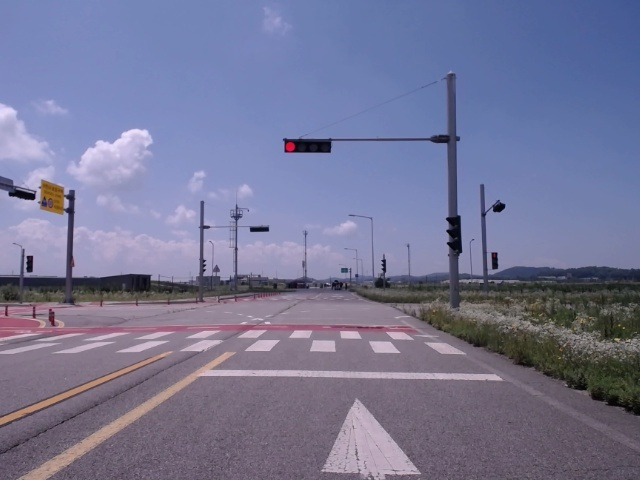red_4: (284, 140, 331, 154)
